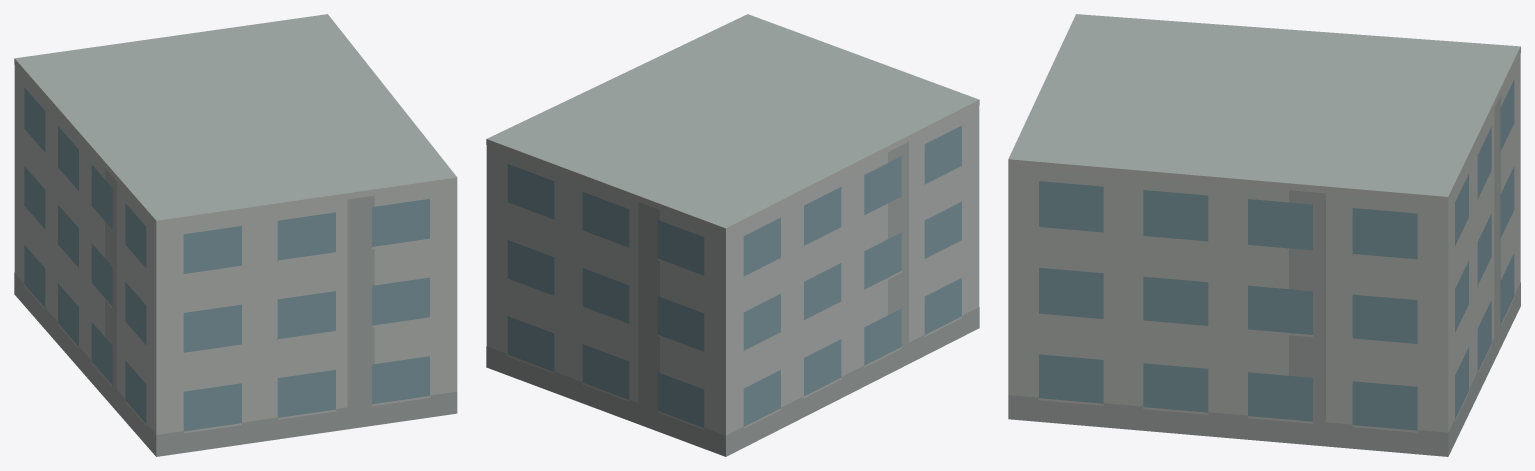
File: survey-upis-32793107.glb
3 renders of one model, left to right at view 1: azimuth 30°, elevation 25°; view 2: azimuth 150°, elevation 25°; view 3: azimuth 270°, elevation 25°, orthographic. The views are drawn at different scales.
Visible parts, largest first — view 1: survey-upis-32793107.tmp; view 2: survey-upis-32793107.tmp; view 3: survey-upis-32793107.tmp.
Part boxes in pixels (box(x1,y1,x2,y2)): survey-upis-32793107.tmp: box(14, 14, 457, 456); survey-upis-32793107.tmp: box(486, 14, 979, 456); survey-upis-32793107.tmp: box(1008, 14, 1520, 456).
Bounding box in the file's own units: 13.82 × 9.15 × 16.36.
